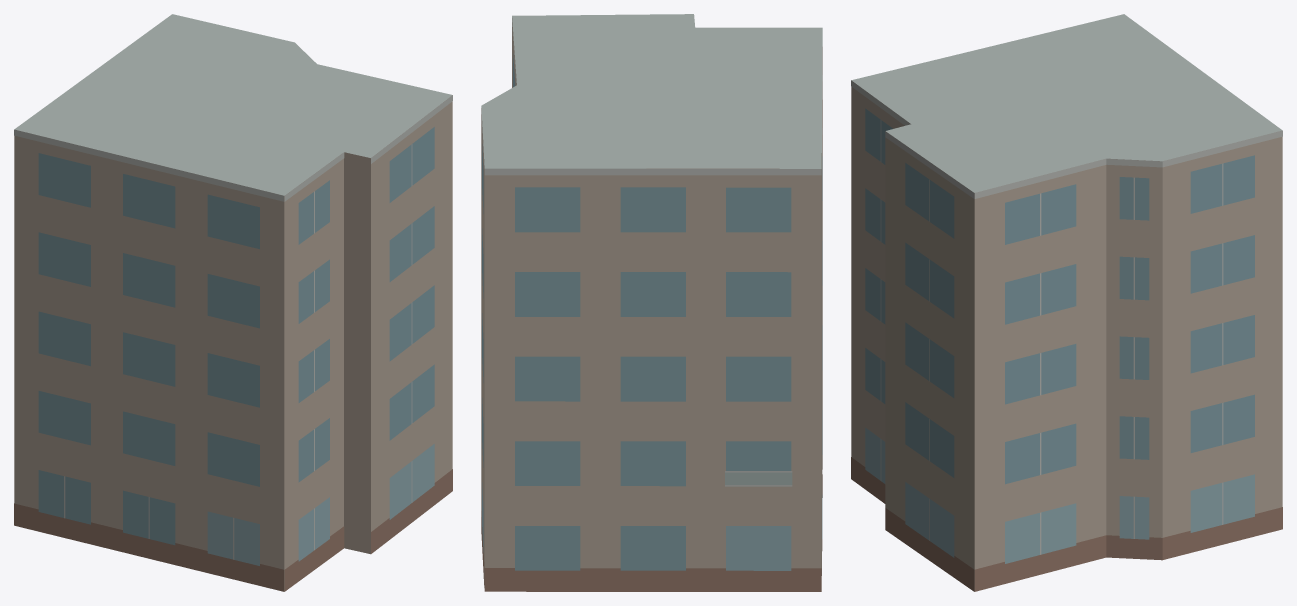
The model's file is survey-upis-32714555.glb.
3 views of the same model, side by side, from view 1: azimuth 30°, elevation 25°; view 2: azimuth 150°, elevation 25°; view 3: azimuth 270°, elevation 25° (orthographic). The views are drawn at different scales.
Visible parts, largest first — view 1: survey-upis-32714555.tmp; view 2: survey-upis-32714555.tmp; view 3: survey-upis-32714555.tmp.
Part boxes in pixels (box(x1,y1,x2,y2)): survey-upis-32714555.tmp: box(14, 14, 452, 591); survey-upis-32714555.tmp: box(481, 14, 822, 591); survey-upis-32714555.tmp: box(851, 14, 1282, 591).
Size of the model in its own units: 15.17 by 15.75 by 15.45.
